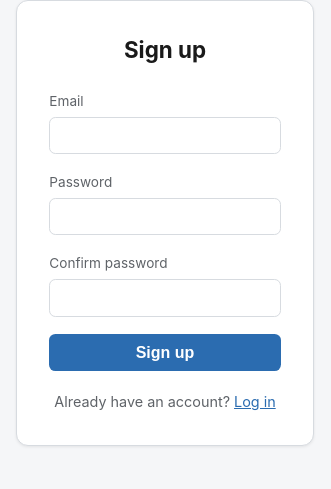
Test: shows the too-short-password error under the password field
Type "alice@example.com" into the field labelled "Email" at [165, 135], box 49,117 -> 281,154
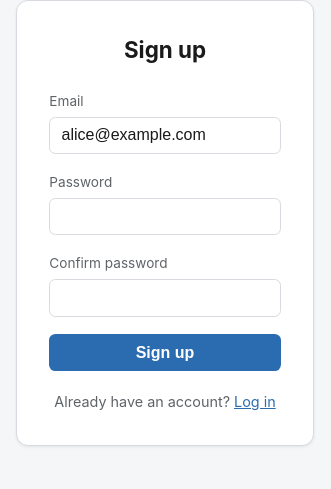
Type "short" into the password field labelled "Password" at [165, 217], box 49,198 -> 281,235
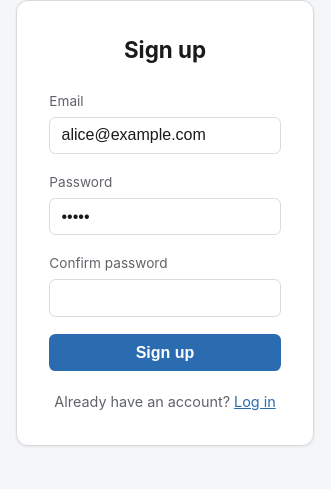
Type "short" into the password field labelled "Confirm password" at [165, 298], box 49,279 -> 281,316
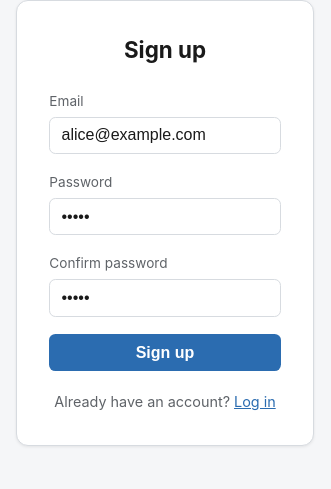
Click the button "Sign up" at [165, 353], box 49,334 -> 281,371
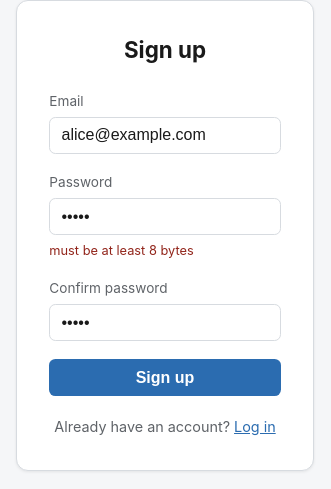
Check: the text "must be at least 8 bytes" is shown, box 49,243 -> 194,258
